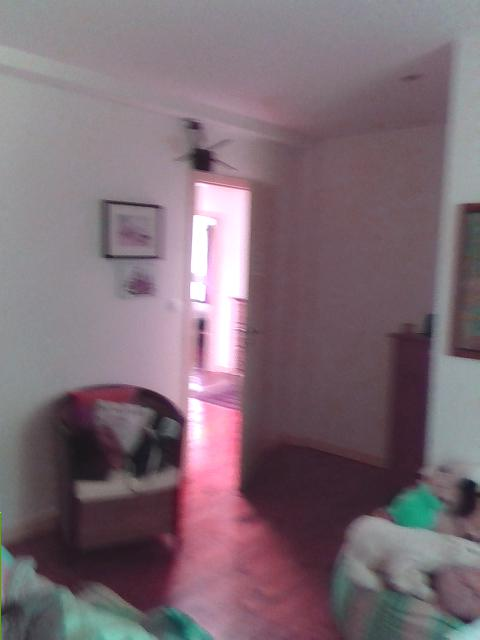semi_door: (179, 166, 271, 491)
